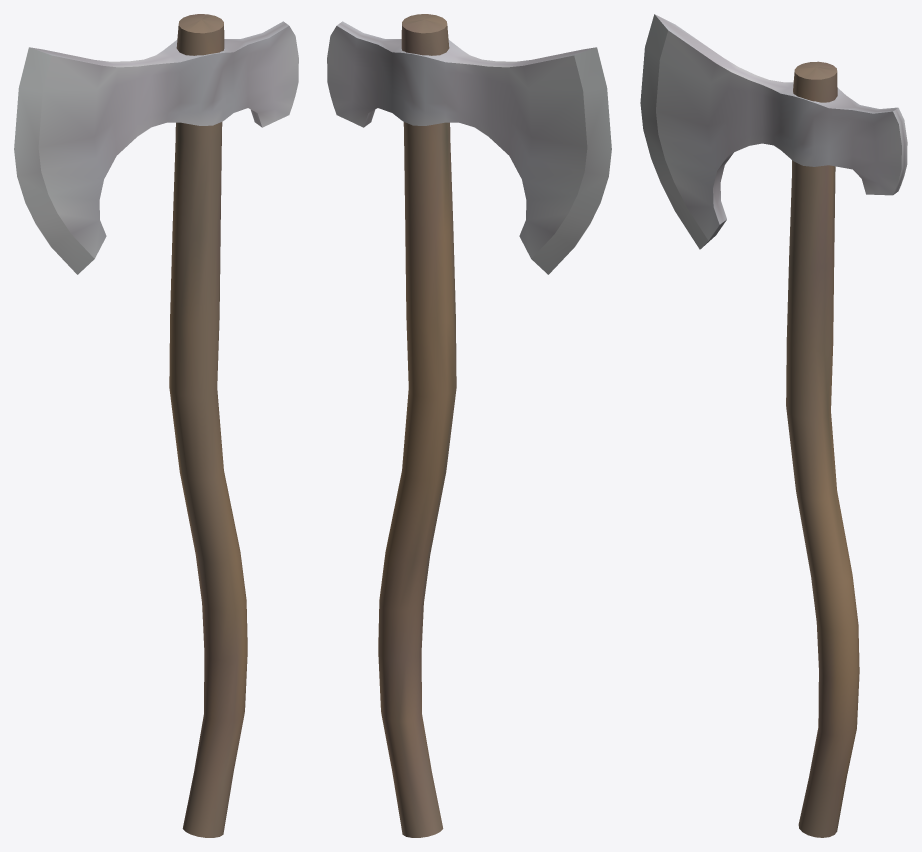
File: Axe_Bronze.glb
The picture shows the model from 3 angles, left to right: view 1: azimuth 30°, elevation 25°; view 2: azimuth 150°, elevation 25°; view 3: azimuth 330°, elevation 25°; orthographic projection. The views are drawn at different scales.
Visible parts, largest first — view 1: Axe_Bronze; view 2: Axe_Bronze; view 3: Axe_Bronze.
Boxes of the visible parts, <box> form: Axe_Bronze: <box>14,14,298,837</box>; Axe_Bronze: <box>327,14,611,837</box>; Axe_Bronze: <box>640,14,907,837</box>.
Size of the model in its own units: 0.2945 by 0.8269 by 0.046.
